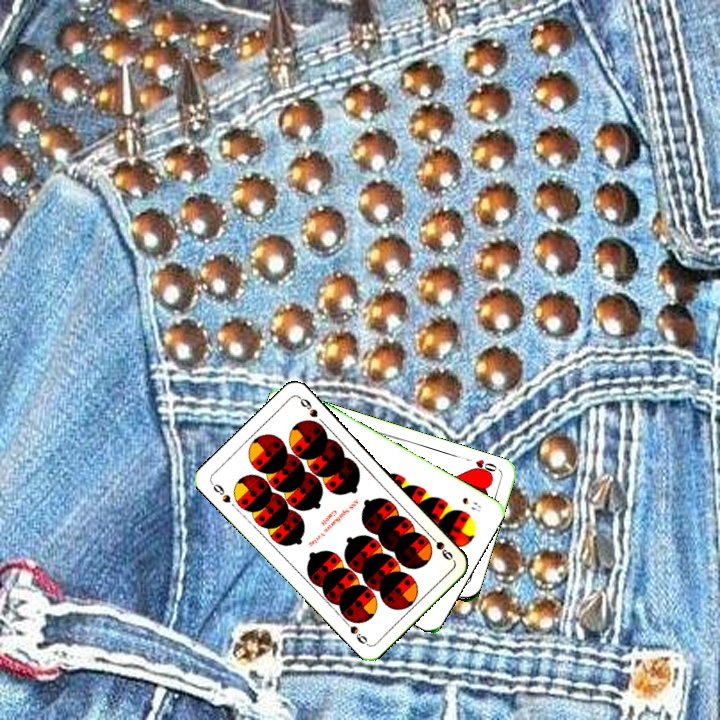HO: (462, 454, 501, 478)
S8: (458, 493, 483, 514)
S9: (425, 530, 455, 563), (207, 478, 233, 506)
